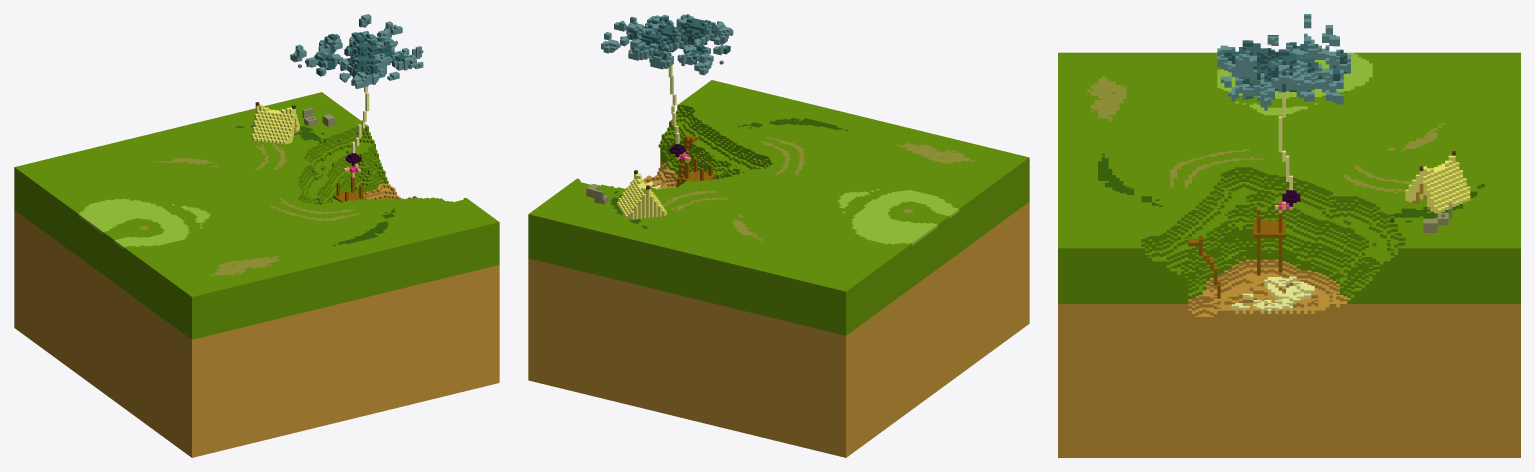
3 renders of one model, left to right at view 1: azimuth 30°, elevation 25°; view 2: azimuth 150°, elevation 25°; view 3: azimuth 270°, elevation 25°, orthographic. The views are drawn at different scales.
Visible parts, largest first — view 1: 4H; view 2: 4H; view 3: 4H.
Boxes of the visible parts, x1,y1,x2,y2 form: 4H: [14, 14, 499, 457]; 4H: [528, 14, 1029, 457]; 4H: [1058, 14, 1520, 457].
Bounding box in the file's own units: 12.8 × 11.8 × 12.8.
Materials: 1 (1 with a texture image).
